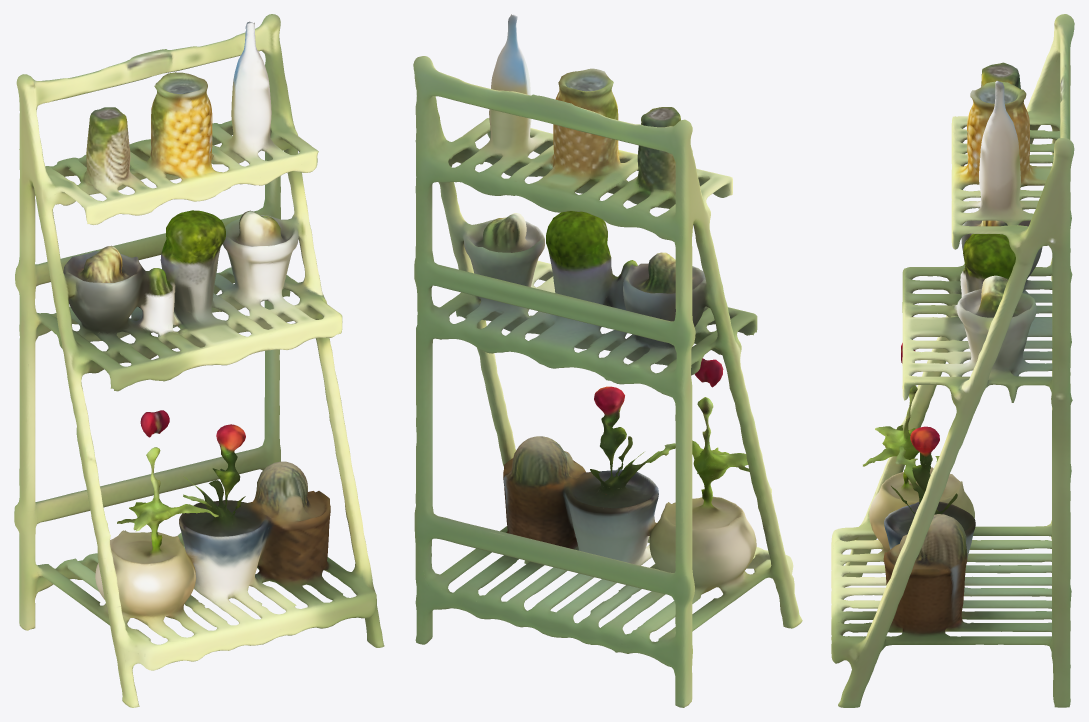
3 renders of one model, left to right at view 1: azimuth 30°, elevation 25°; view 2: azimuth 150°, elevation 25°; view 3: azimuth 270°, elevation 25°, orthographic. The views are drawn at different scales.
Parts seen in each view (by area): view 1: model; view 2: model; view 3: model.
Part boxes in pixels (<box>): model: <box>14,14,384,707</box>; model: <box>413,14,802,707</box>; model: <box>831,14,1074,707</box>.
Size of the model in its own units: 73.36 by 155 by 57.02.
